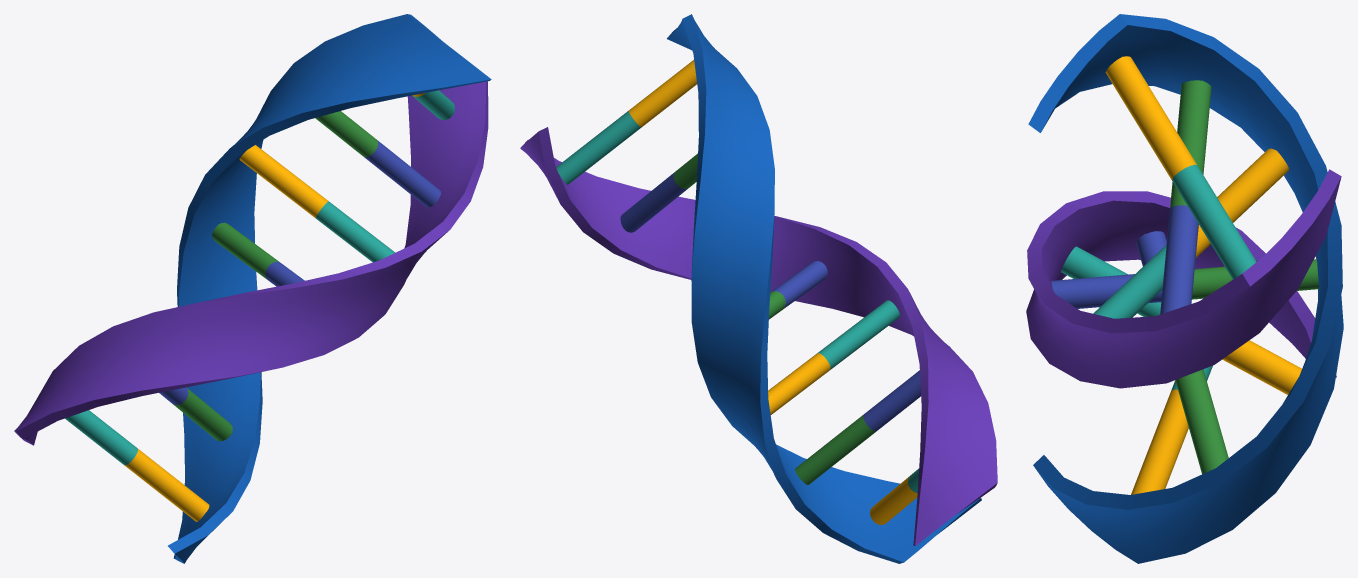
Rendered from dna.gltf.
The picture shows the model from 3 angles, left to right: view 1: azimuth 30°, elevation 25°; view 2: azimuth 150°, elevation 25°; view 3: azimuth 270°, elevation 25°; orthographic projection. The views are drawn at different scales.
Parts seen in each view (by area): view 1: Plane.345; view 2: Plane.345; view 3: Plane.345.
Boxes of the visible parts, bbox=[...] form: Plane.345: bbox=[14, 14, 491, 563]; Plane.345: bbox=[520, 14, 997, 563]; Plane.345: bbox=[1026, 14, 1343, 563].
Bounding box in the file's own units: 2.12 × 2.12 × 0.8757.
1 material, 1 textured.
